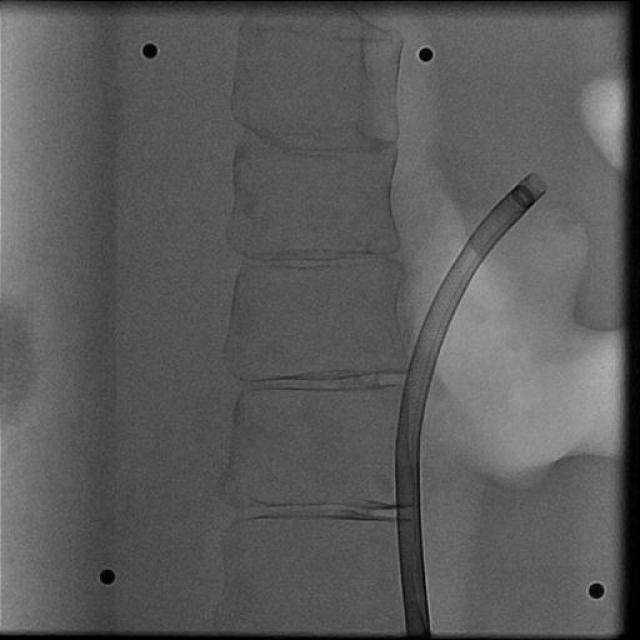bend: (395, 444, 419, 461)
entry: (406, 632, 430, 636)
marker: (510, 184, 534, 210)
tip: (526, 174, 546, 193)
